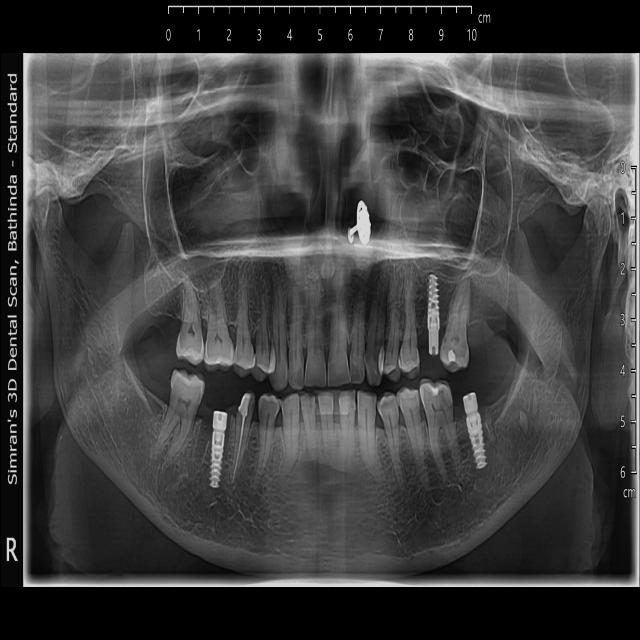Caries: (421, 381, 453, 411)
Filling: (448, 349, 454, 360)
Implant: (459, 395, 487, 465), (209, 414, 230, 492), (426, 275, 439, 357)
Root Canal Treatment: (230, 393, 255, 488)
